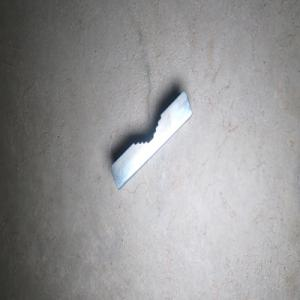ClampPart: (110, 89, 193, 191)
